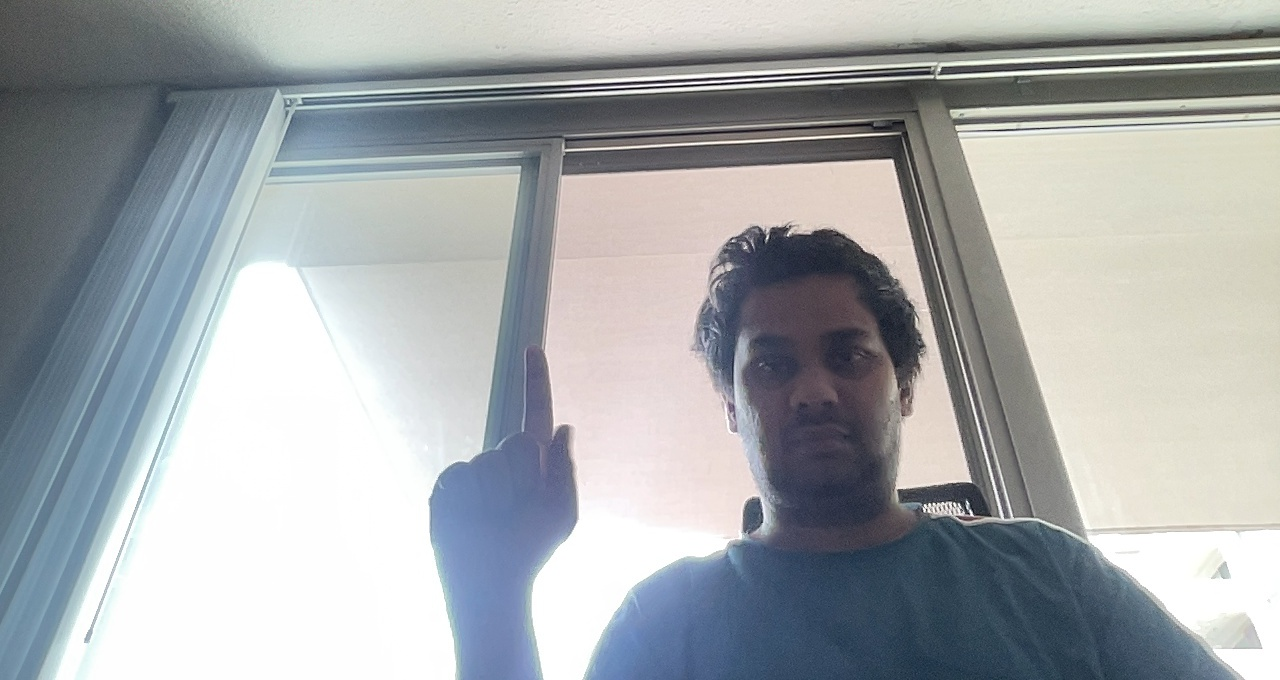fingerup: (418, 333, 598, 570)
